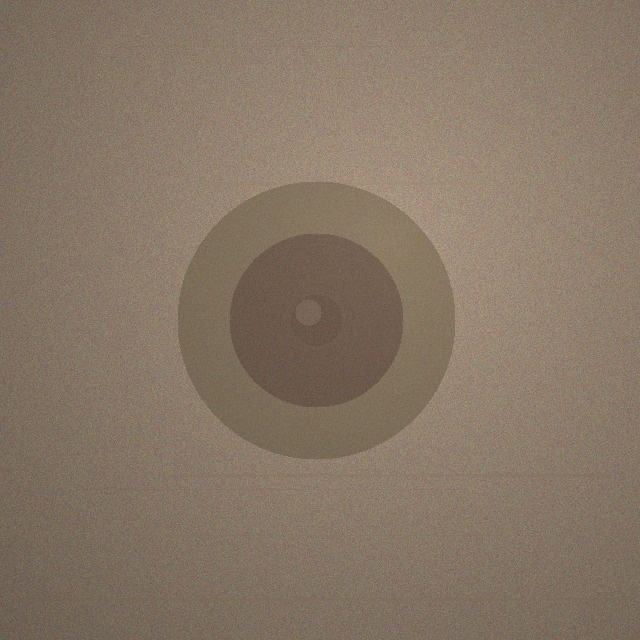good: (177, 181, 455, 459)
